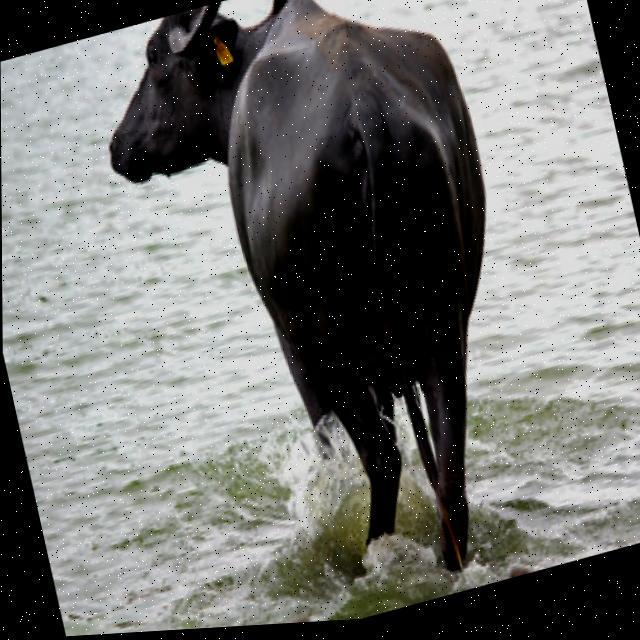Buffalo: (79, 0, 567, 635)
